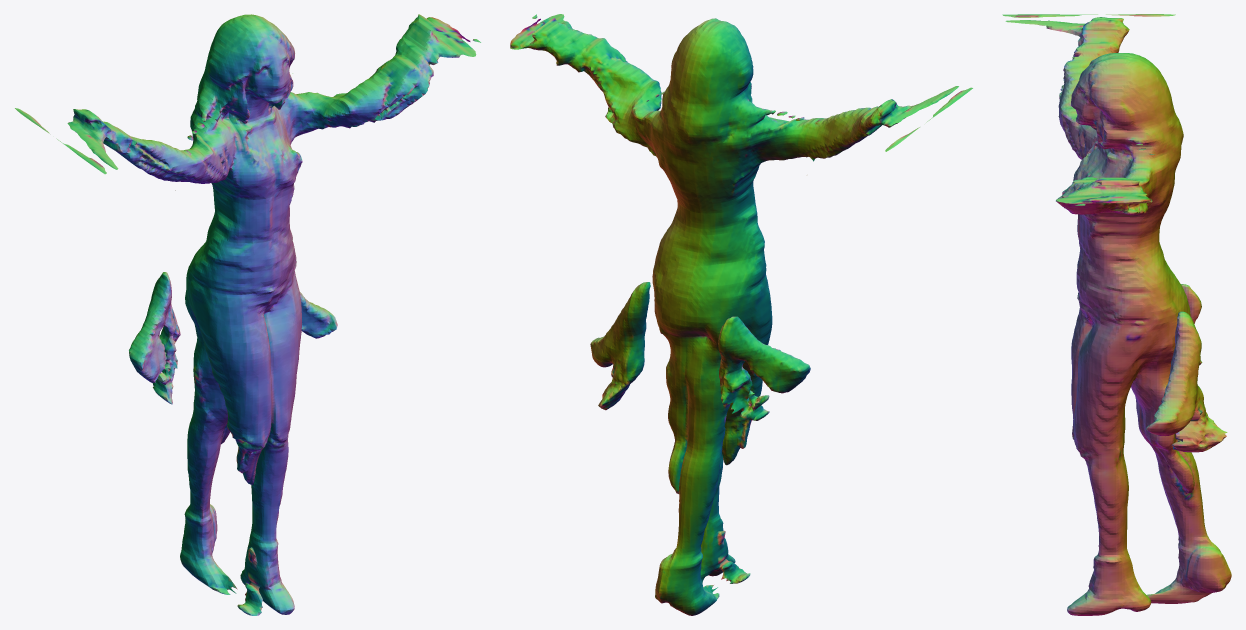
The model's file is result_npc06_256.obj.
3 views of the same model, side by side, from view 1: azimuth 30°, elevation 25°; view 2: azimuth 150°, elevation 25°; view 3: azimuth 270°, elevation 25° (orthographic). The views are drawn at different scales.
Size of the model in its own units: 1.23 by 1.64 by 0.6149.
